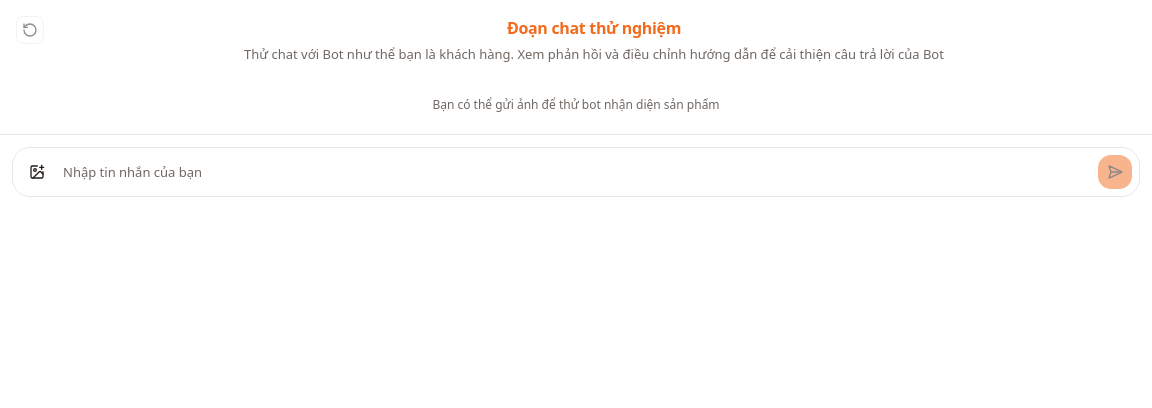
TestChat quick replies › hides the pills once the customer types instead
The width and height of the screenshot is (1152, 408).
In the text box labelled "Nhập tin nhắn của bạn": (576, 172) [63,154,1089,190], type "chot don"
Then press Enter
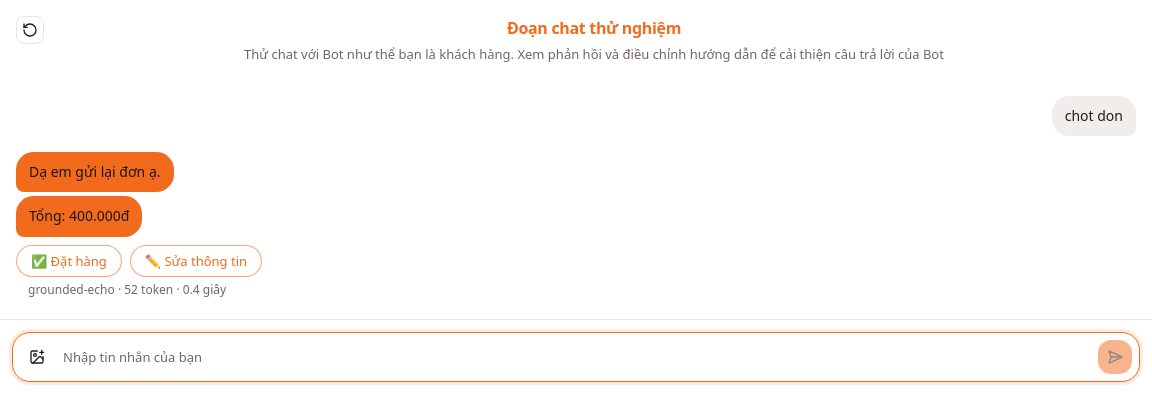
Result: the button "✅ Đặt hàng" is shown at [16,245,122,277]
In the text box labelled "Nhập tin nhắn của bạn": (576, 357) [63,339,1089,375], type "ok dat luon"
Then press Enter
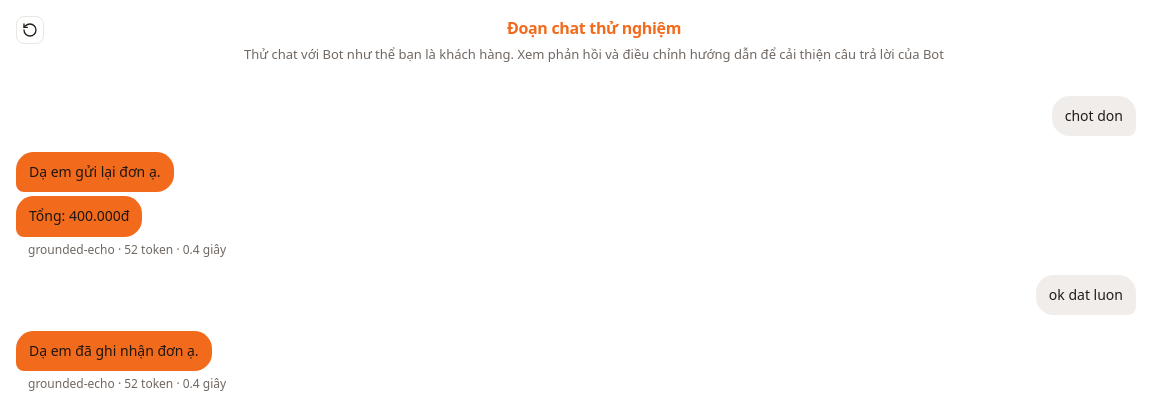
Result: the button "Dạ em đã ghi nhận đơn ạ." is shown at [16,331,212,372]
Result: the button "✅ Đặt hàng" is gone
